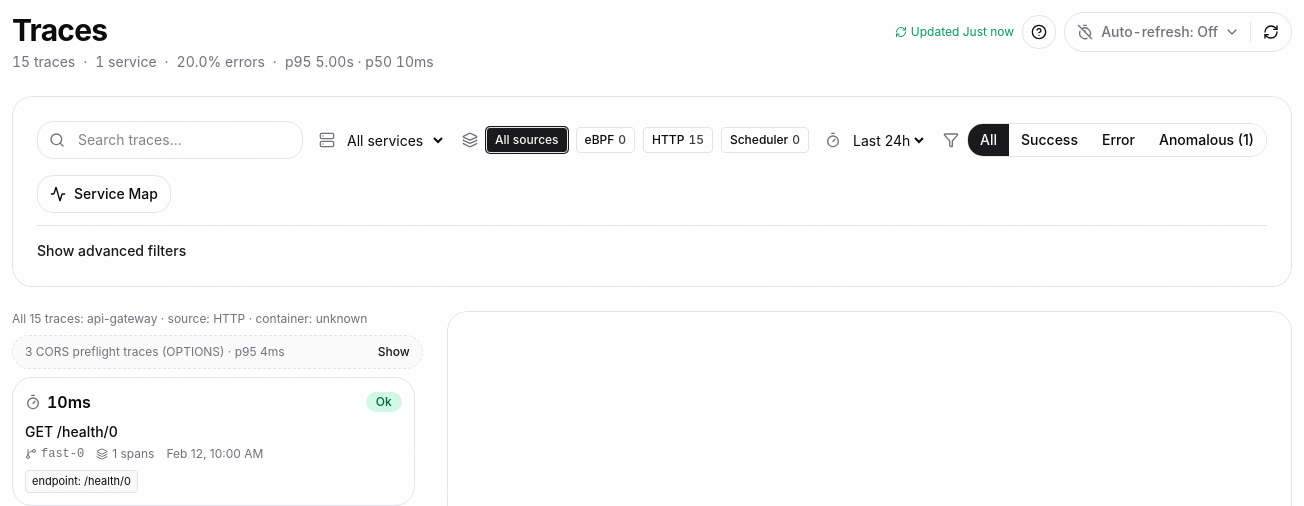
Test: TraceExplorerPage › keeps the computation guide, behind the header help toggle
The image size is (1304, 506).
Expected: the text "How these numbers are computed" is not shown
Click the button with test id "source-guide-toggle" at (1039, 32), box [1022,15,1056,49]
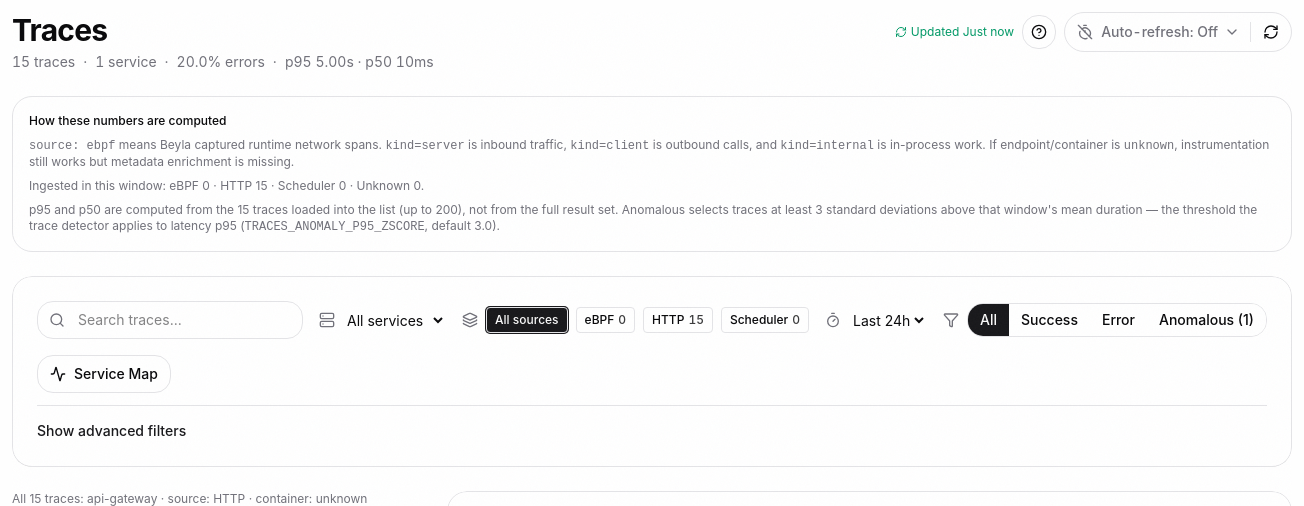
Expected: the text "How these numbers are computed" is shown, [29,113,226,128]
Expected: the text "Beyla captured runtime network spans" is shown, [115,137,382,152]
Expected: the text "Ingested in this window" is shown, [29,178,169,193]
